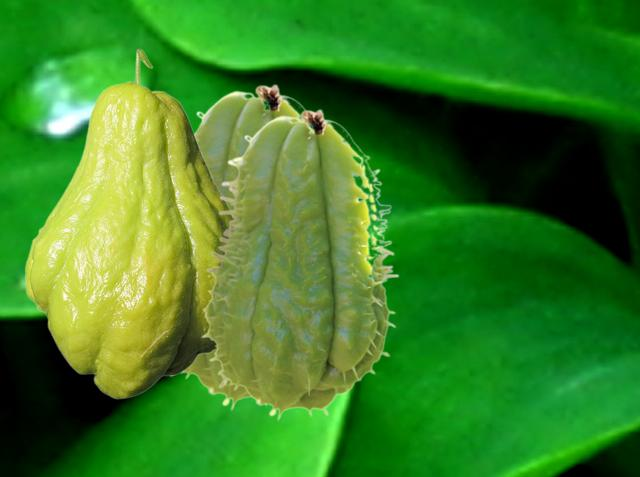sayote: (24, 48, 232, 398), (200, 108, 398, 420), (169, 83, 312, 410)
